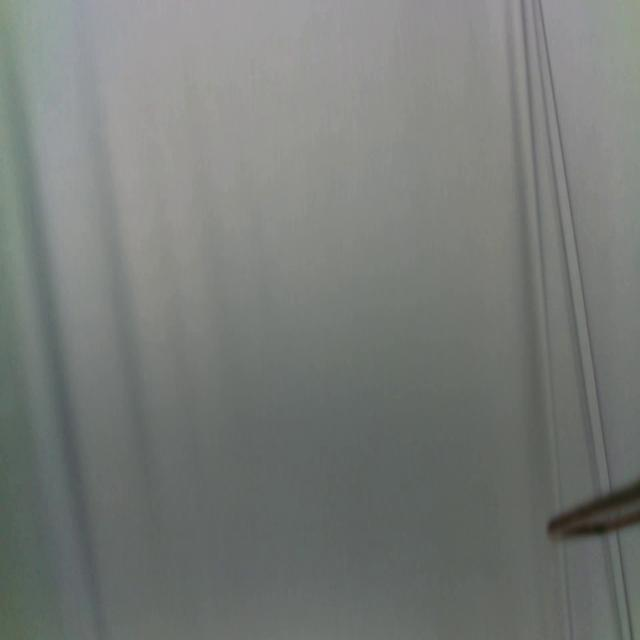crease: (538, 0, 612, 488)
